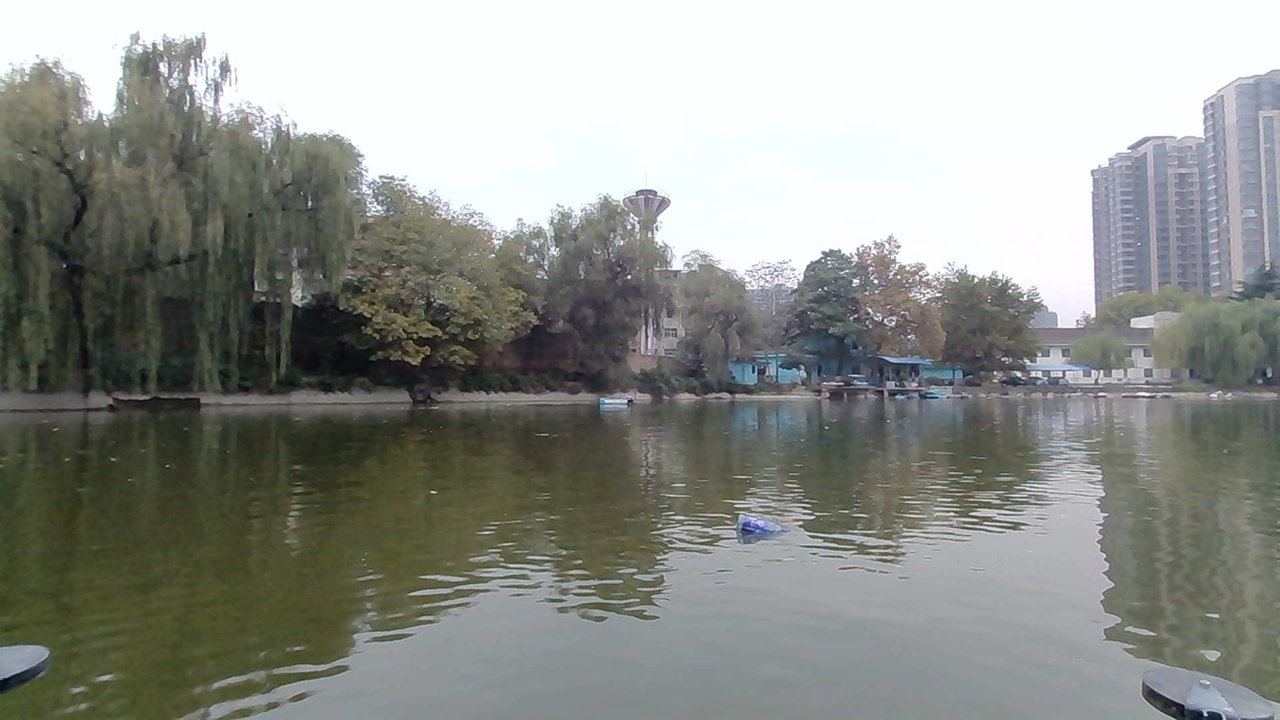bottle: (736, 514, 781, 548)
